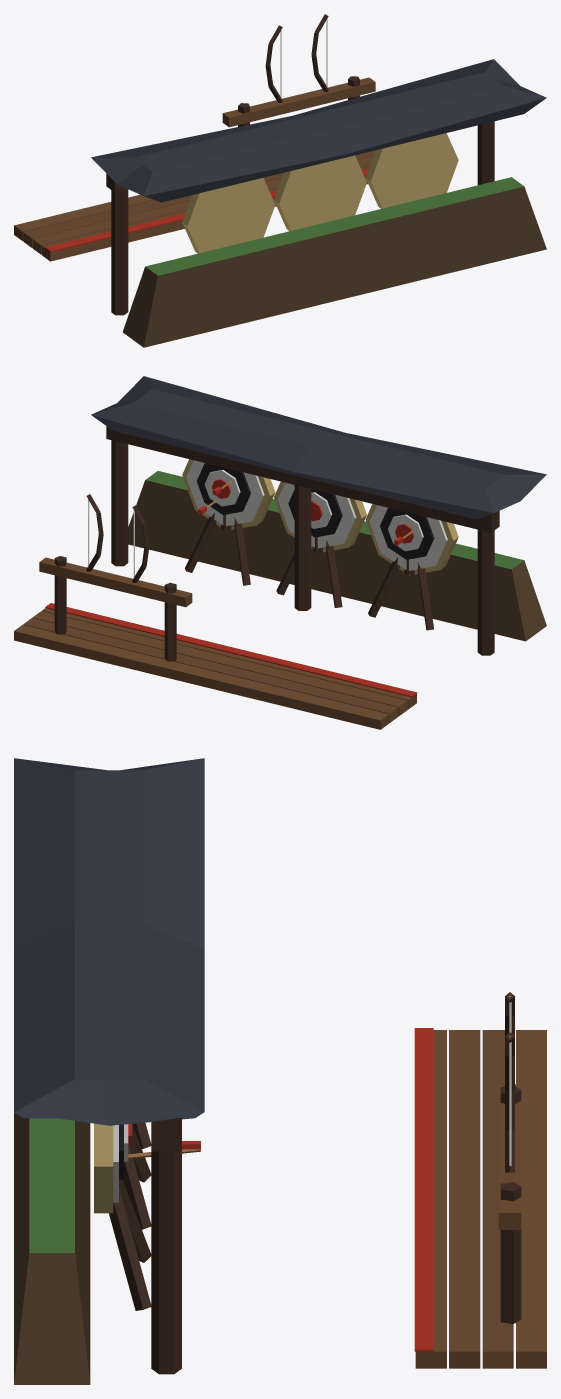
Rendered from Decor_SamuraiShrine_Archery.fbx.
The picture shows the model from 3 angles, top to bottom: view 1: azimuth 30°, elevation 25°; view 2: azimuth 150°, elevation 25°; view 3: azimuth 270°, elevation 25°; orthographic projection. The views are drawn at different scales.
Visible parts, largest first — view 1: Archery_Body; view 2: Archery_Body; view 3: Archery_Body.
Boxes of the visible parts, left/top/right/bottom form: Archery_Body: left=14, top=14, right=546, bottom=347; Archery_Body: left=14, top=376, right=546, bottom=729; Archery_Body: left=14, top=758, right=546, bottom=1384.
Size of the model in its own units: 22 by 8.2 by 14.
